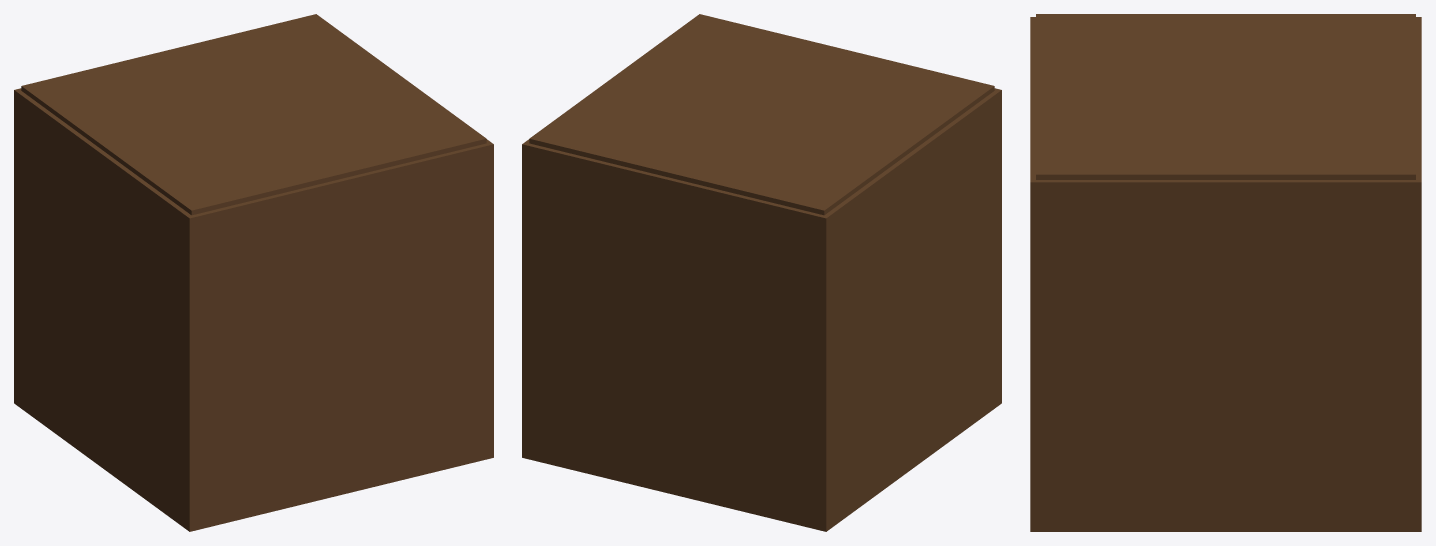
3 views of the same model, side by side, from view 1: azimuth 30°, elevation 25°; view 2: azimuth 150°, elevation 25°; view 3: azimuth 270°, elevation 25° (orthographic). The views are drawn at different scales.
Parts seen in each view (by area): view 1: SolidBlock.004; view 2: SolidBlock.004; view 3: SolidBlock.004.
Part boxes in pixels (box(x1,y1,x2,y2)): SolidBlock.004: box(14, 14, 493, 531); SolidBlock.004: box(522, 14, 1001, 531); SolidBlock.004: box(1030, 14, 1421, 531).
Bounding box in the file's own units: 1 × 1 × 1.
